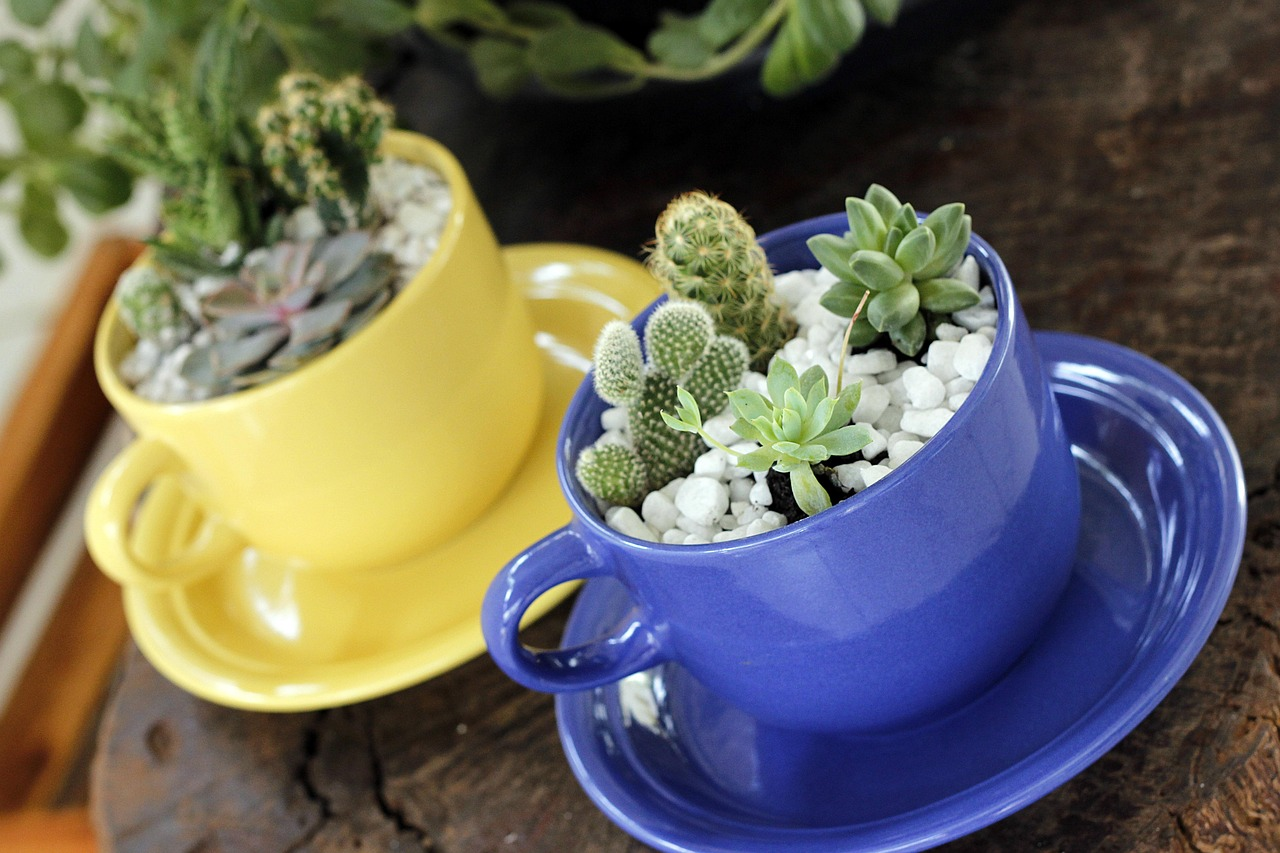mug: (476, 151, 1095, 807), (81, 67, 542, 712)
